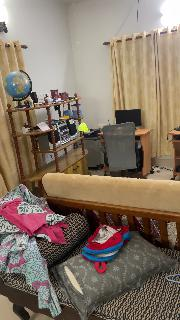shuttlecock: (78, 122, 90, 132)
